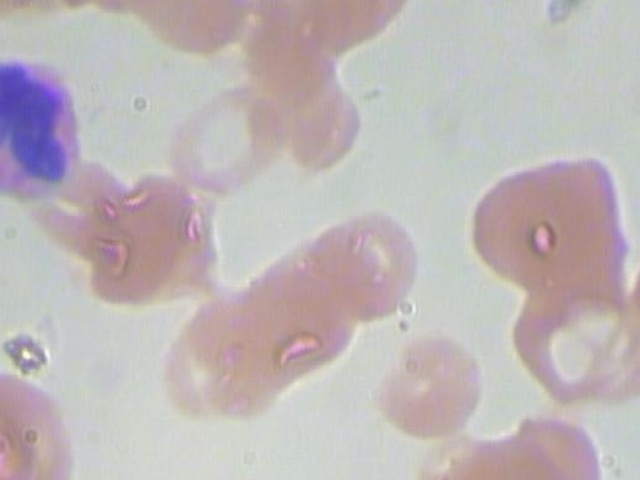RBC: (464, 145, 632, 285), (505, 282, 636, 402), (168, 77, 295, 196), (151, 292, 278, 411), (365, 327, 491, 440), (320, 204, 426, 316), (498, 409, 625, 480), (133, 0, 260, 60), (393, 0, 520, 2)
WBC: (0, 50, 96, 200)
